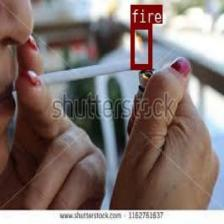fire: (130, 23, 151, 68)
